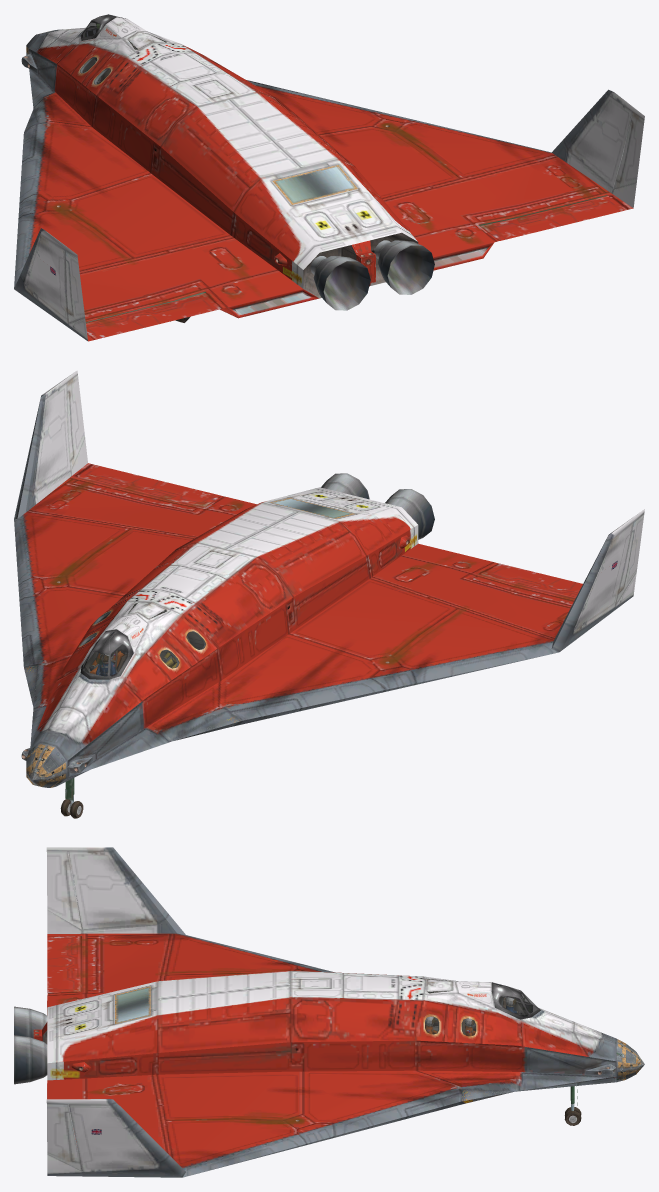
The model's file is deltaglider.obj.
3 renders of one model, top to bottom at view 1: azimuth 30°, elevation 25°; view 2: azimuth 150°, elevation 25°; view 3: azimuth 270°, elevation 25°, orthographic. The views are drawn at different scales.
Parts seen in each view (by area): view 1: group42, group94, group98, RUAileron1, LUAileron1, Raddoor1, group104, group103, RRudder1, group102, LRudder2; view 2: group42, group94, RUAileron1, group98, LUAileron1, group121, RRudder1, group23, group104, group103, LRudder2, Raddoor1; view 3: group42, group94, group98, LUAileron1, LRudder1, RRudder2, Raddoor1, group121, group103, group23, group107, group104.
Boxes of the visible parts, <box> form: group42: <box>14,68,644,341</box>; group94: <box>21,17,493,318</box>; group98: <box>310,240,434,310</box>; RUAileron1: <box>480,195,626,240</box>; LUAileron1: <box>86,292,221,339</box>; Raddoor1: <box>272,165,357,204</box>; group104: <box>128,248,209,283</box>; group103: <box>412,182,493,210</box>; RRudder1: <box>613,113,644,189</box>; group102: <box>303,232,418,298</box>; LRudder2: <box>65,252,84,322</box>; group42: <box>14,370,644,777</box>; group94: <box>21,487,418,786</box>; RUAileron1: <box>77,464,221,507</box>; group98: <box>321,473,434,539</box>; LUAileron1: <box>479,563,582,598</box>; group121: <box>80,611,205,676</box>; RRudder1: <box>66,376,84,471</box>; group23: <box>80,629,133,679</box>; group104: <box>412,579,493,608</box>; group103: <box>128,513,209,535</box>; LRudder2: <box>615,514,644,604</box>; Raddoor1: <box>270,498,354,518</box>; group42: <box>46,847,614,1177</box>; group94: <box>33,970,616,1098</box>; group98: <box>14,1006,47,1084</box>; LUAileron1: <box>47,936,81,993</box>; LRudder1: <box>47,852,82,929</box>; RRudder2: <box>47,1103,82,1171</box>; Raddoor1: <box>115,986,150,1023</box>; group121: <box>425,991,538,1036</box>; group103: <box>121,1094,155,1126</box>; group23: <box>491,982,540,1019</box>; group107: <box>91,1128,125,1142</box>; group104: <box>121,971,155,989</box>.
Bounding box in the file's own units: 17.87 × 4.93 × 18.72.
Materials: 27 (23 with a texture image).
